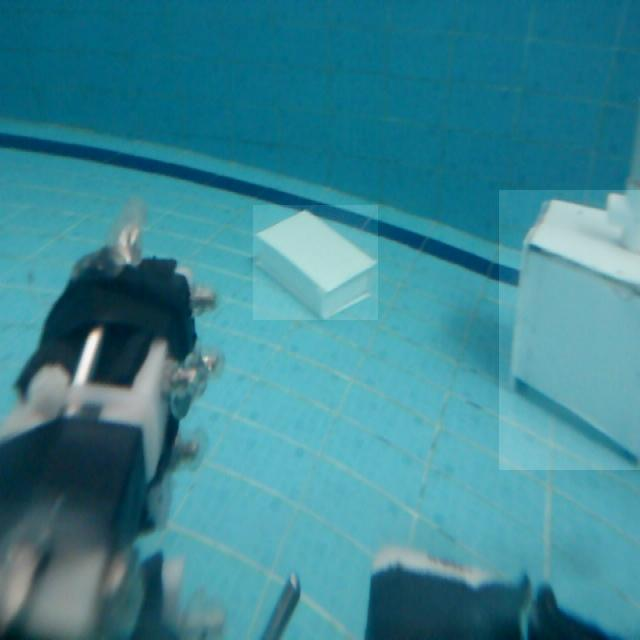Cube: (499, 190, 640, 470)
Cuboid: (253, 205, 378, 320)
